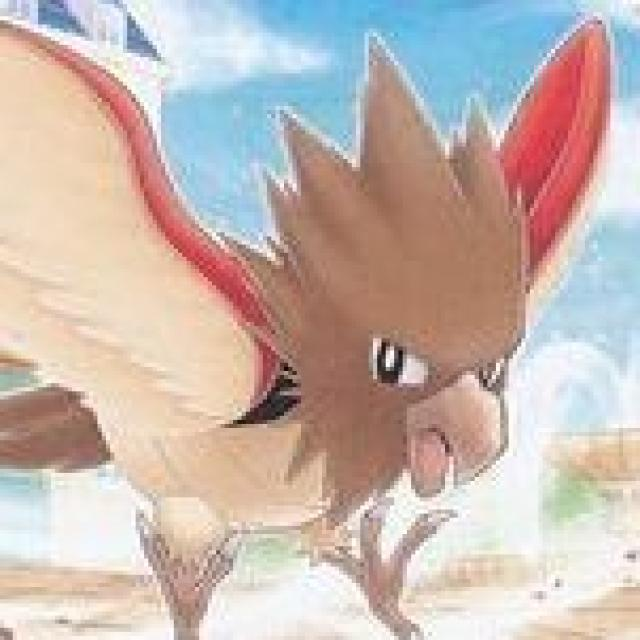Spearow: (111, 89, 538, 606)
